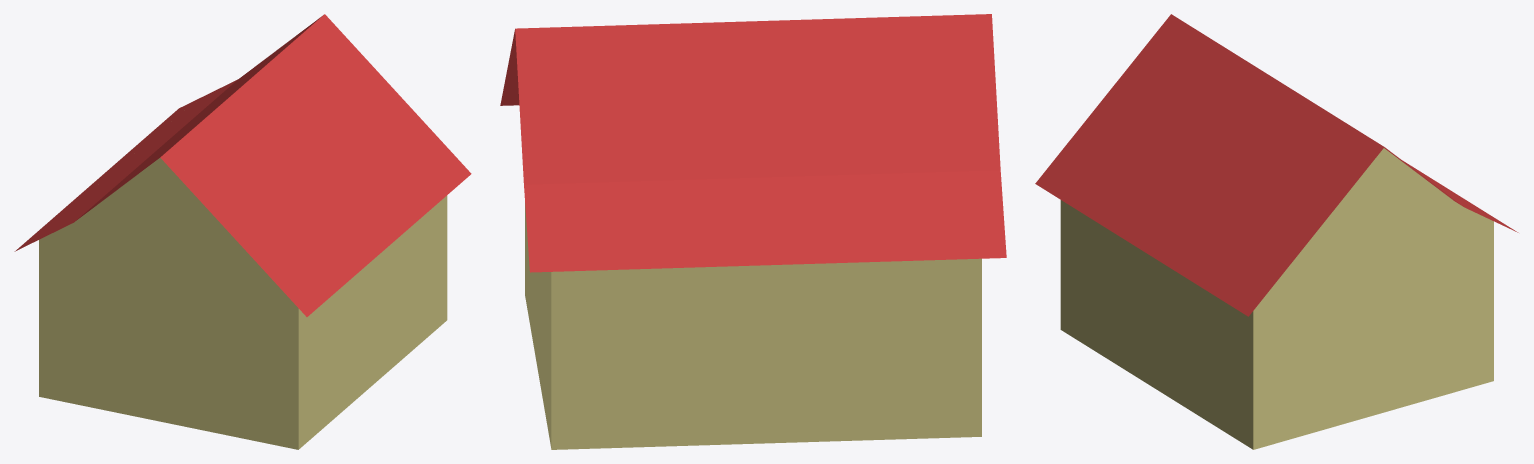
3 views of the same model, side by side, from view 1: azimuth 30°, elevation 25°; view 2: azimuth 150°, elevation 25°; view 3: azimuth 270°, elevation 25° (orthographic). The views are drawn at different scales.
Size of the model in its own units: 26.94 by 26.19 by 16.38.
